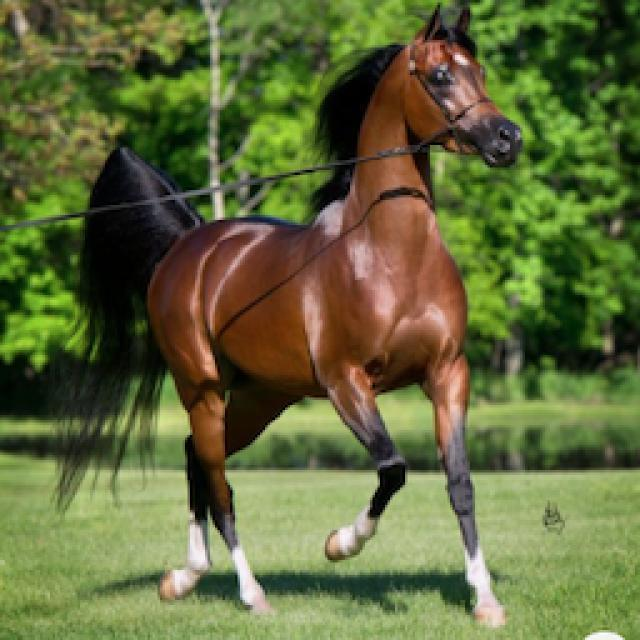Horse: (40, 0, 532, 630)
